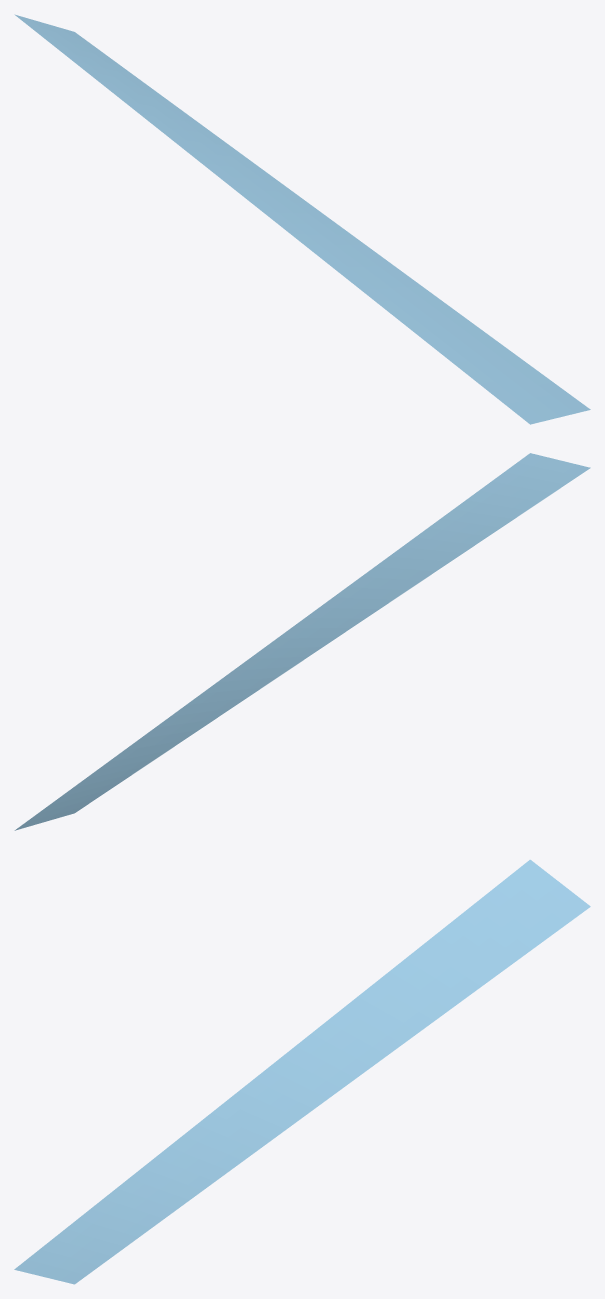
3 views of the same model, one above another, from view 1: azimuth 30°, elevation 25°; view 2: azimuth 150°, elevation 25°; view 3: azimuth 330°, elevation 25° (orthographic).
Visible parts, largest first — view 1: Plane.020; view 2: Plane.020; view 3: Plane.020.
Boxes of the visible parts, bbox=[...] form: Plane.020: bbox=[14, 14, 590, 424]; Plane.020: bbox=[14, 453, 590, 830]; Plane.020: bbox=[14, 859, 590, 1284].
Bounding box in the file's own units: 240 × 122 × 3529.
